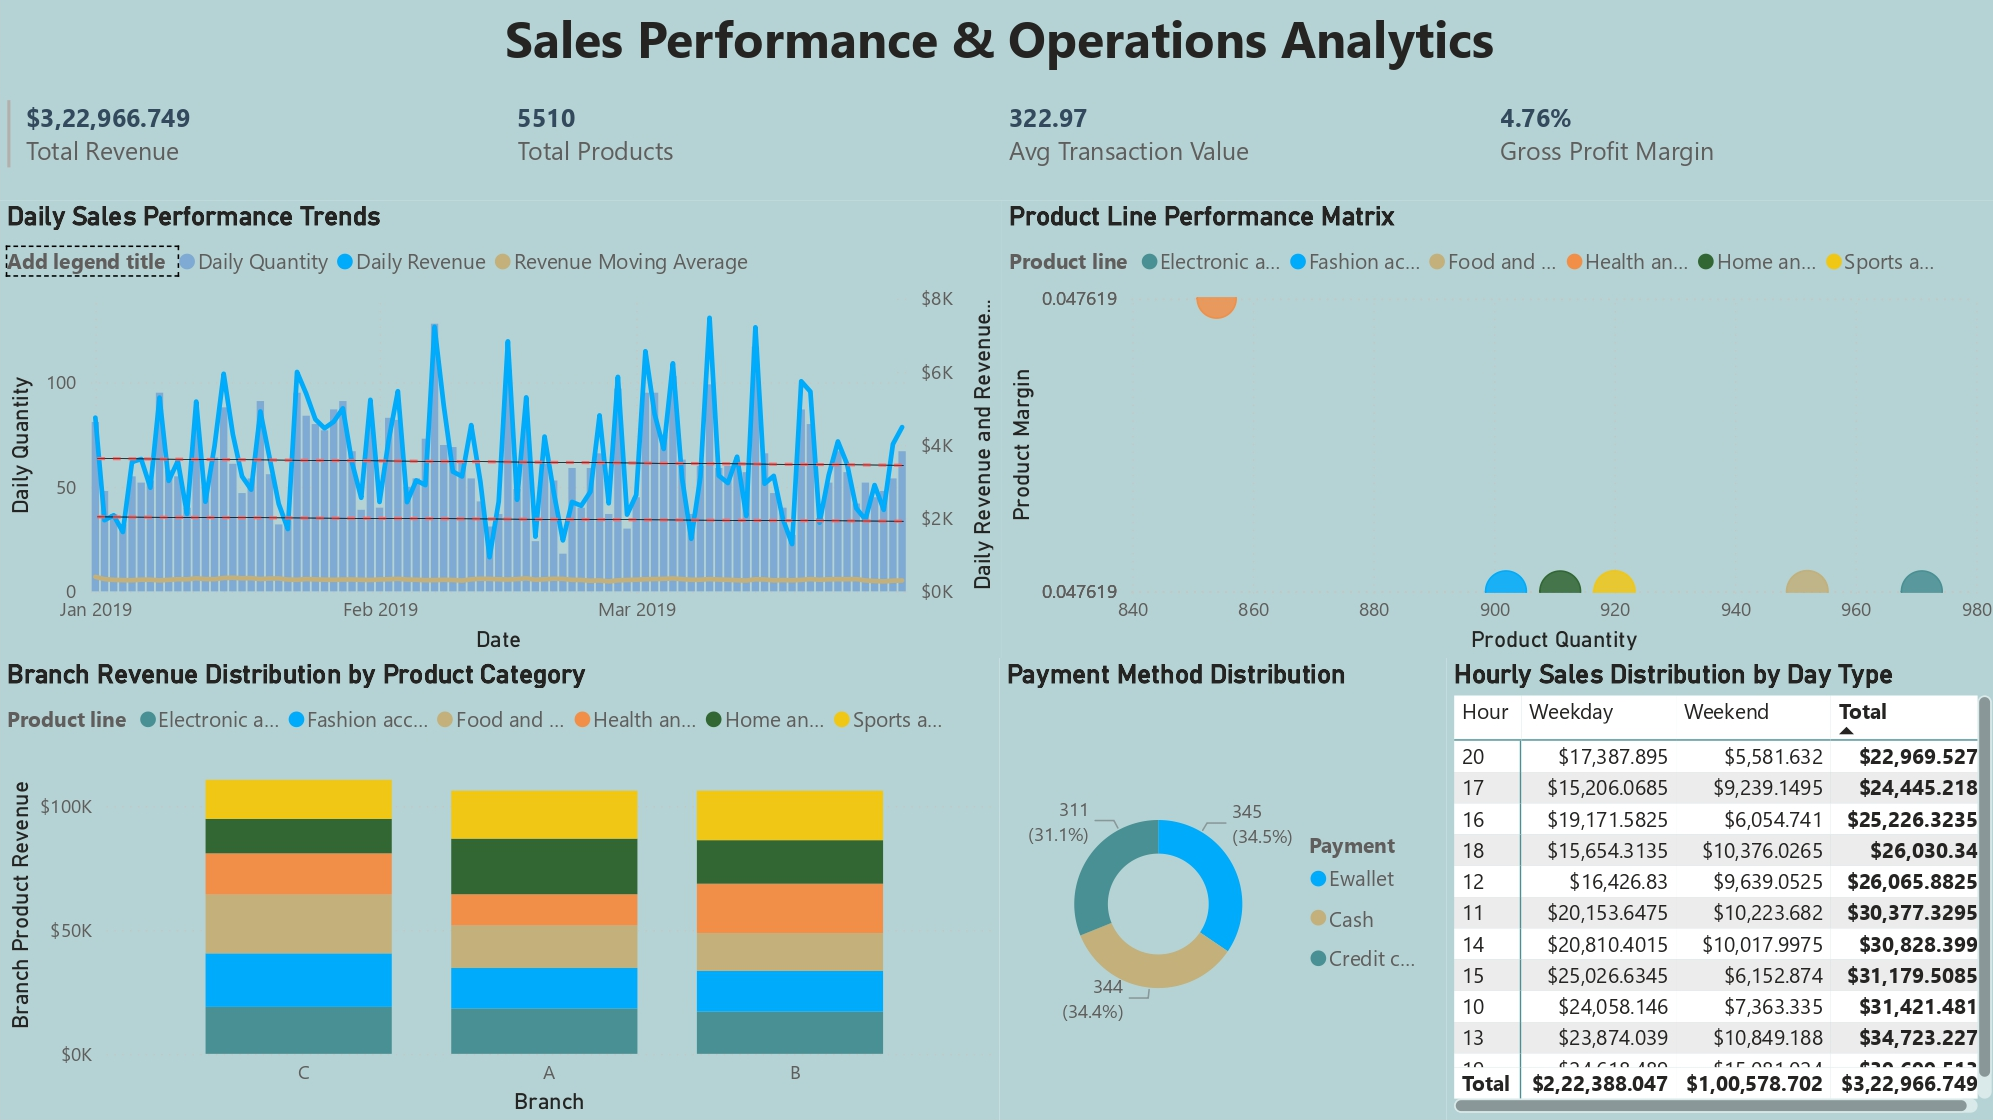

What the dashboard file says about the page in this screenshot:
{"tool":"powerbi","page":{"name":"SuperMart Performance Metrics","canvas":[1280,720],"ordinal":0},"visuals":[{"type":"textbox","box":[0,0,1280,62.5],"z":0},{"type":"multiRowCard","fields":{"Values":["supermarket_sales.Total Revenue","supermarket_sales.Total Products","supermarket_sales.Avg Transaction Value","supermarket_sales.Gross Profit Margin"]},"box":[0,62.4,1280.3,68.5],"z":1000},{"type":"lineClusteredColumnComboChart","title":"Daily Sales Performance Trends","fields":{"Category":["supermarket_sales.Date"],"Y":["supermarket_sales.Daily Quantity"],"Y2":["supermarket_sales.Daily Revenue","supermarket_sales.Revenue Moving Average"]},"box":[0,131.2,641.2,292.5],"z":2000},{"type":"scatterChart","title":"Product Line Performance Matrix","fields":{"X":["supermarket_sales.Product Quantity"],"Y":["supermarket_sales.Product Margin"],"Size":["supermarket_sales.Product Revenue"],"Series":["supermarket_sales.Product line"]},"box":[641.2,131.2,638.8,292.5],"z":3000},{"type":"columnChart","title":"Branch Revenue Distribution by Product Category","fields":{"Category":["supermarket_sales.Branch"],"Y":["supermarket_sales.Branch Product Revenue"],"Series":["supermarket_sales.Product line"]},"box":[0,424.3,639.5,295.9],"z":4000},{"type":"donutChart","title":"Payment Method Distribution","fields":{"Category":["supermarket_sales.Payment"],"Y":["supermarket_sales.Payment Distribution"]},"box":[640,423.8,286.2,296.2],"z":5000},{"type":"pivotTable","title":"Hourly Sales Distribution by Day Type","fields":{"Rows":["supermarket_sales.Hour"],"Columns":["supermarket_sales.Day Type"],"Values":["supermarket_sales.Hour Day Type Sales"]},"box":[926.2,423.8,353.8,296.2],"z":6000}]}

Visuals, with their boxes in screenshot pixels (x1, y1, x2, y2), scaled from the page's 1280x720 canvas onto the 1993x1120 screenshot:
textbox: (0, 0, 1992, 97)
multiRowCard - supermarket_sales.Total Revenue x supermarket_sales.Total Products: (0, 97, 1992, 204)
"Daily Sales Performance Trends" lineClusteredColumnComboChart: (0, 204, 998, 659)
"Product Line Performance Matrix" scatterChart: (998, 204, 1992, 659)
"Branch Revenue Distribution by Product Category" columnChart: (0, 660, 996, 1119)
"Payment Method Distribution" donutChart: (996, 659, 1442, 1119)
"Hourly Sales Distribution by Day Type" pivotTable: (1442, 659, 1992, 1119)
